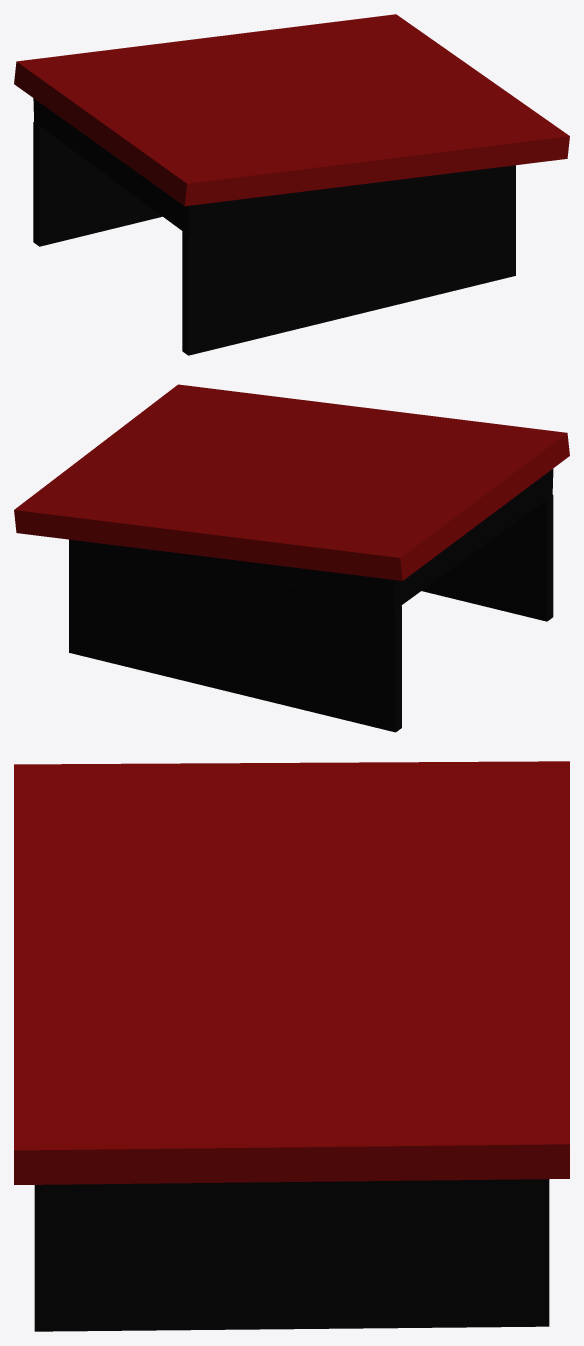
File: House8.FBX
3 views of the same model, one above another, from view 1: azimuth 30°, elevation 25°; view 2: azimuth 150°, elevation 25°; view 3: azimuth 270°, elevation 25° (orthographic). The views are drawn at different scales.
Parts seen in each view (by area): view 1: House8; view 2: House8; view 3: House8.
Boxes of the visible parts, x1,y1,x2,y2 form: House8: (14, 14, 569, 355); House8: (14, 384, 569, 732); House8: (14, 761, 569, 1331).
Size of the model in its own units: 1279 by 956 by 563.
